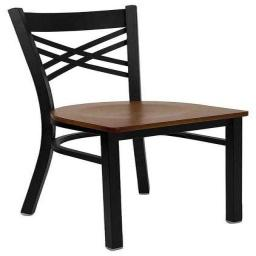Chair: (7, 6, 249, 250)
